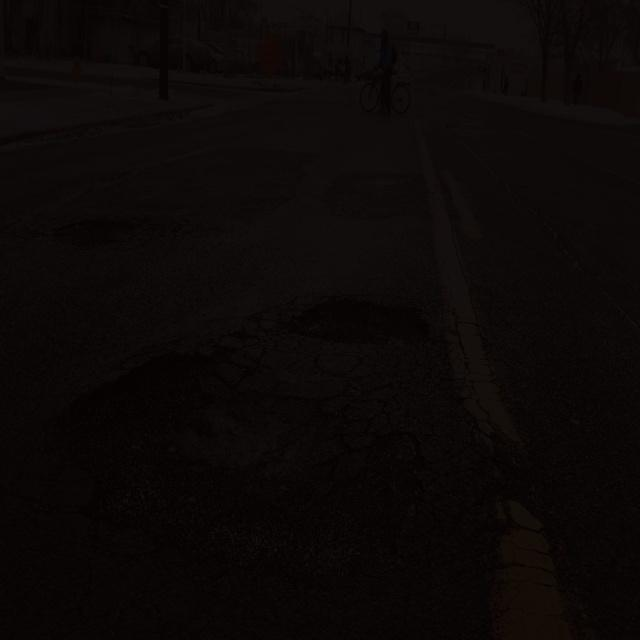Pothole: (53, 354, 426, 586), (286, 286, 436, 359), (54, 213, 134, 253)
